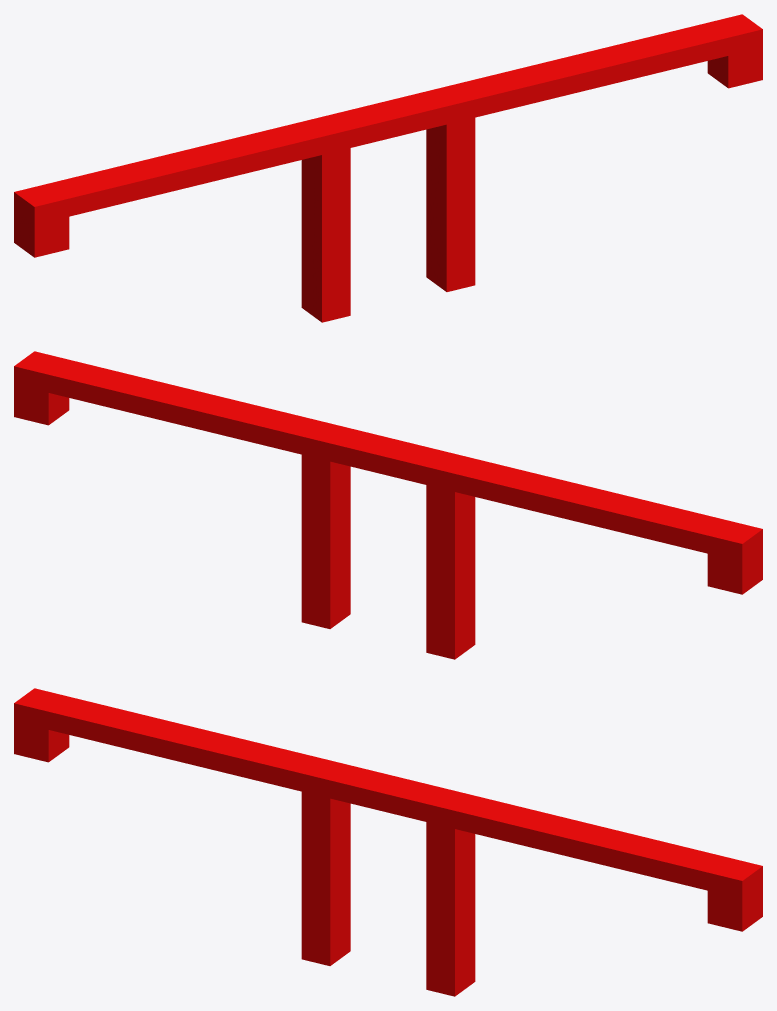
Rendered from SM_Kart_Spoiler_1.fbx.
The picture shows the model from 3 angles, top to bottom: view 1: azimuth 30°, elevation 25°; view 2: azimuth 150°, elevation 25°; view 3: azimuth 330°, elevation 25°; orthographic projection.
Visible parts, largest first — view 1: SM_Kart_Spoiler_1; view 2: SM_Kart_Spoiler_1; view 3: SM_Kart_Spoiler_1.
Part boxes in pixels (<box>): SM_Kart_Spoiler_1: <box>14,14,762,322</box>; SM_Kart_Spoiler_1: <box>14,351,762,659</box>; SM_Kart_Spoiler_1: <box>14,688,762,996</box>.
Bounding box in the file's own units: 421 × 103 × 20.54.
